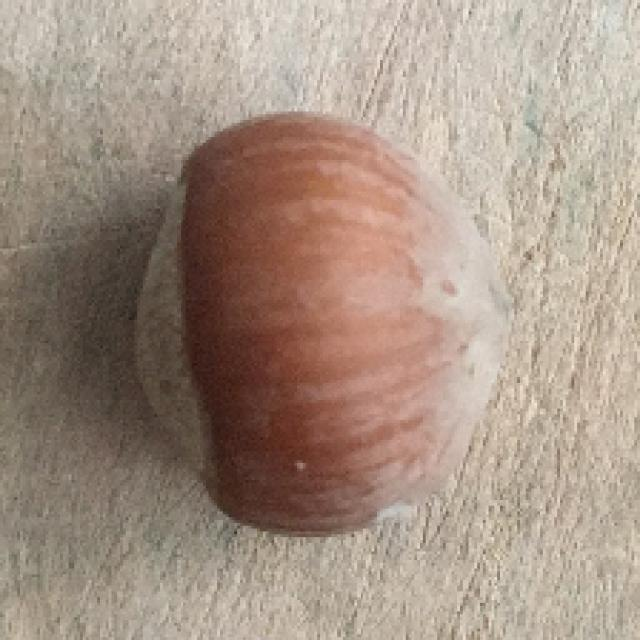qualityHazelnut: (121, 108, 507, 543)
